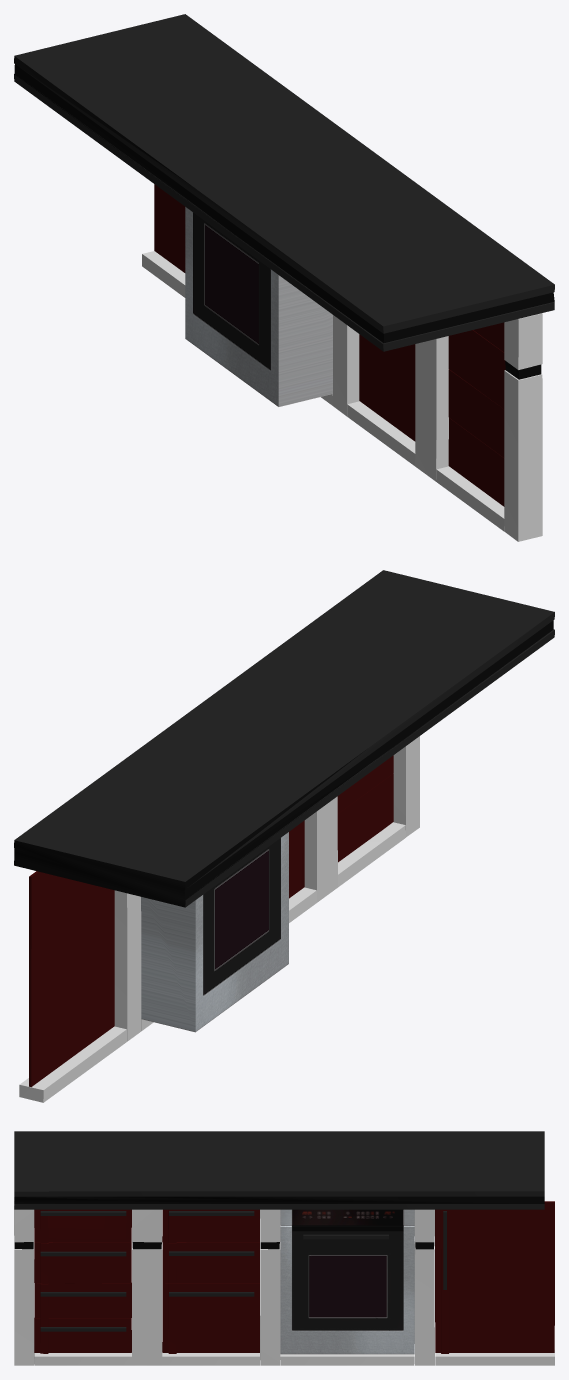
Rendered from Kitchen furniture 3.FBX.
3 views of the same model, one above another, from view 1: azimuth 30°, elevation 25°; view 2: azimuth 150°, elevation 25°; view 3: azimuth 270°, elevation 25° (orthographic). The views are drawn at different scales.
Visible parts, largest first — view 1: Kitchen furniture 3; view 2: Kitchen furniture 3; view 3: Kitchen furniture 3.
Part boxes in pixels (bbox=[...]): Kitchen furniture 3: bbox=[14, 14, 554, 541]; Kitchen furniture 3: bbox=[14, 570, 554, 1102]; Kitchen furniture 3: bbox=[14, 1131, 554, 1365].
Size of the model in its own units: 700 by 970 by 2660.
